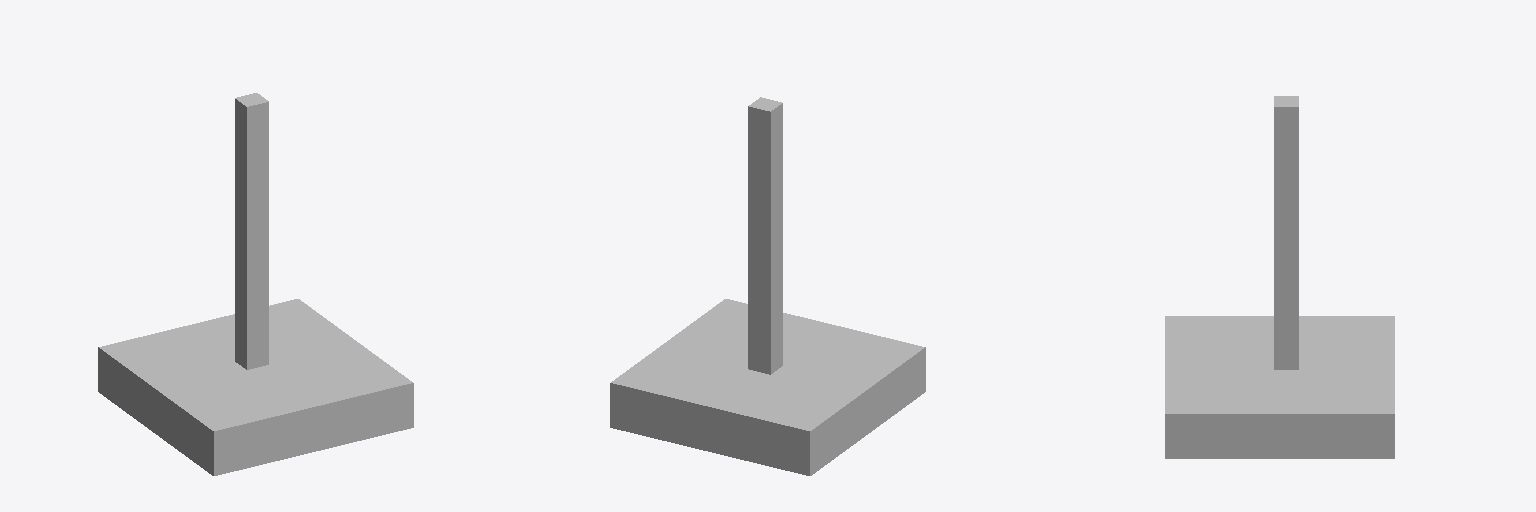
File: light.obj
The picture shows the model from 3 angles: view 1: azimuth 30°, elevation 25°; view 2: azimuth 150°, elevation 25°; view 3: azimuth 270°, elevation 25°; orthographic projection.
Parts seen in each view (by area): view 1: Cube; view 2: Cube; view 3: Cube.
Part boxes in pixels (left/top/right/bottom): Cube: left=98, top=93, right=413, bottom=475; Cube: left=610, top=97, right=925, bottom=475; Cube: left=1165, top=96, right=1394, bottom=458.
Bounding box in the file's own units: 0.4991 × 0.7351 × 0.4983.